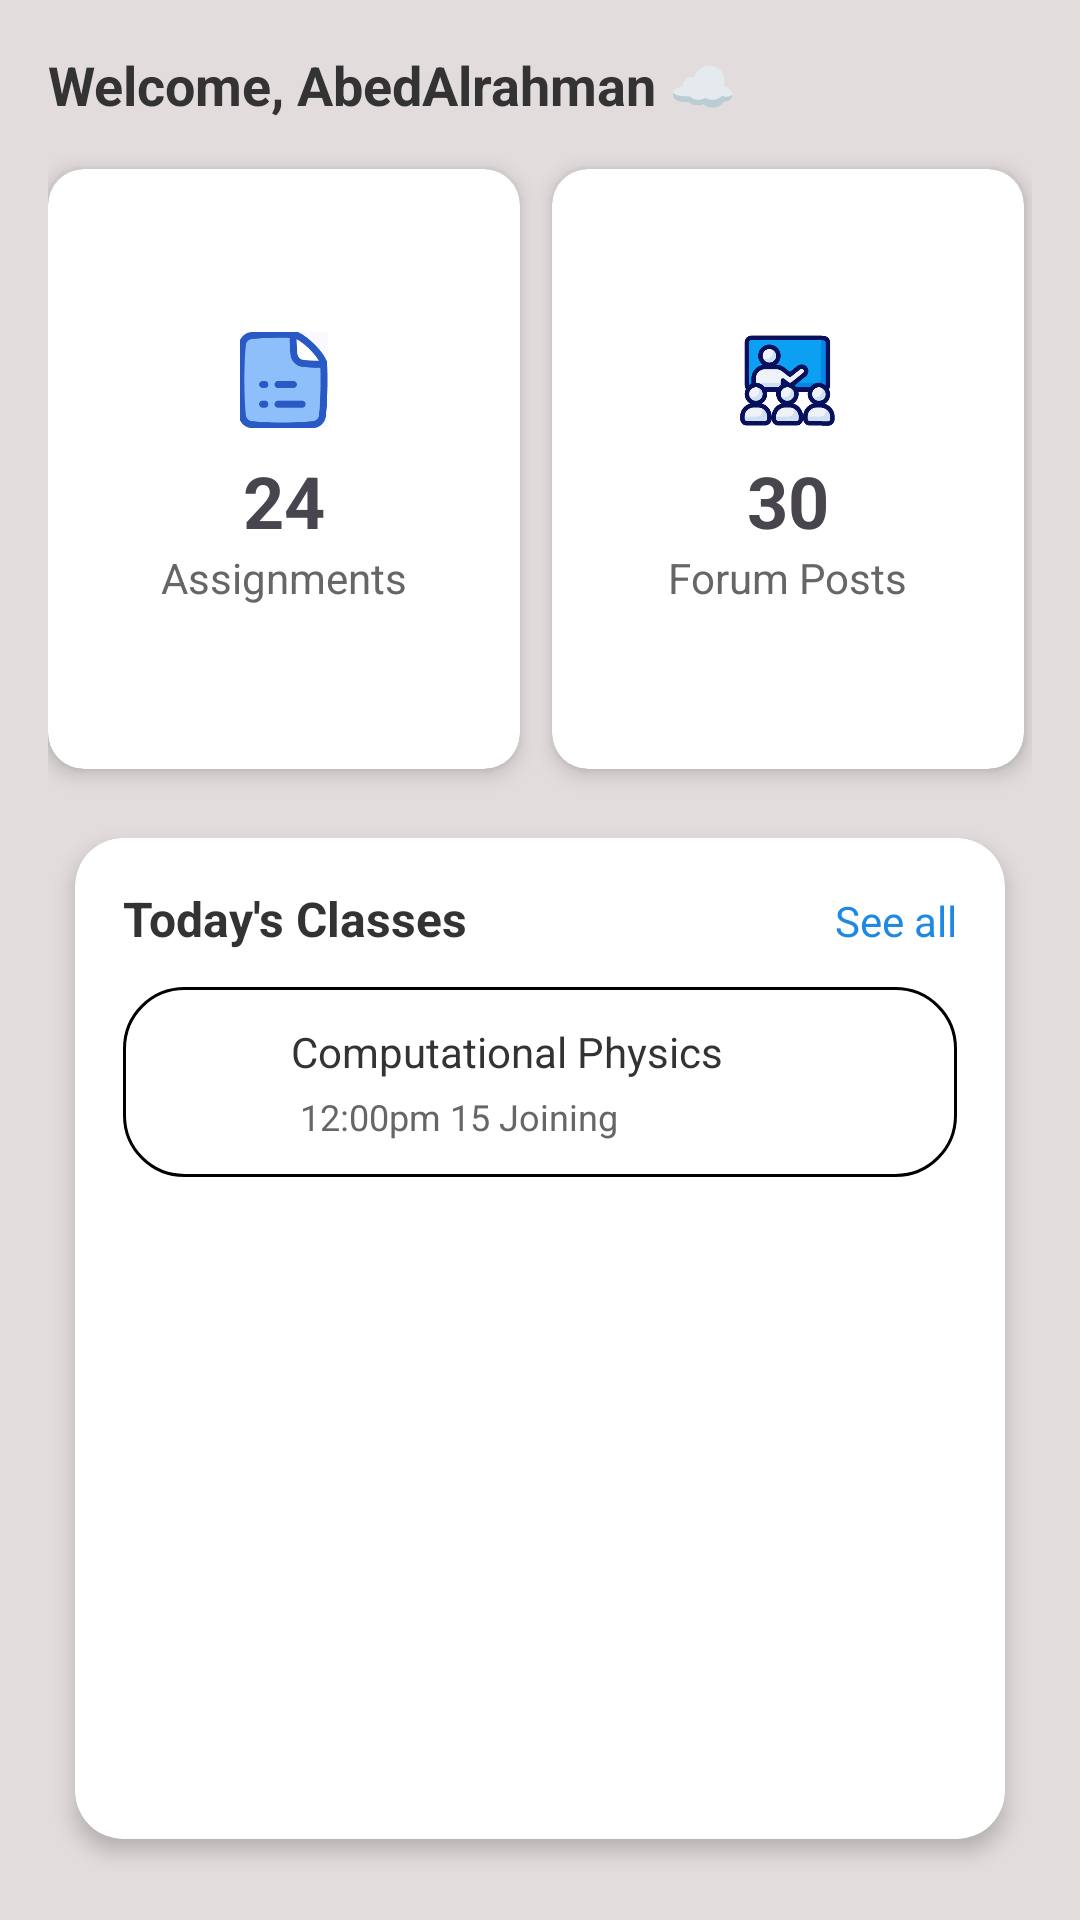

Screen size 1080px×1920px. Icon name, then its box in pixels as {"x1": x1, "y1": y1, "x2": x2, "y2": y2}:
task: {"x1": 240, "y1": 332, "x2": 328, "y2": 428}
